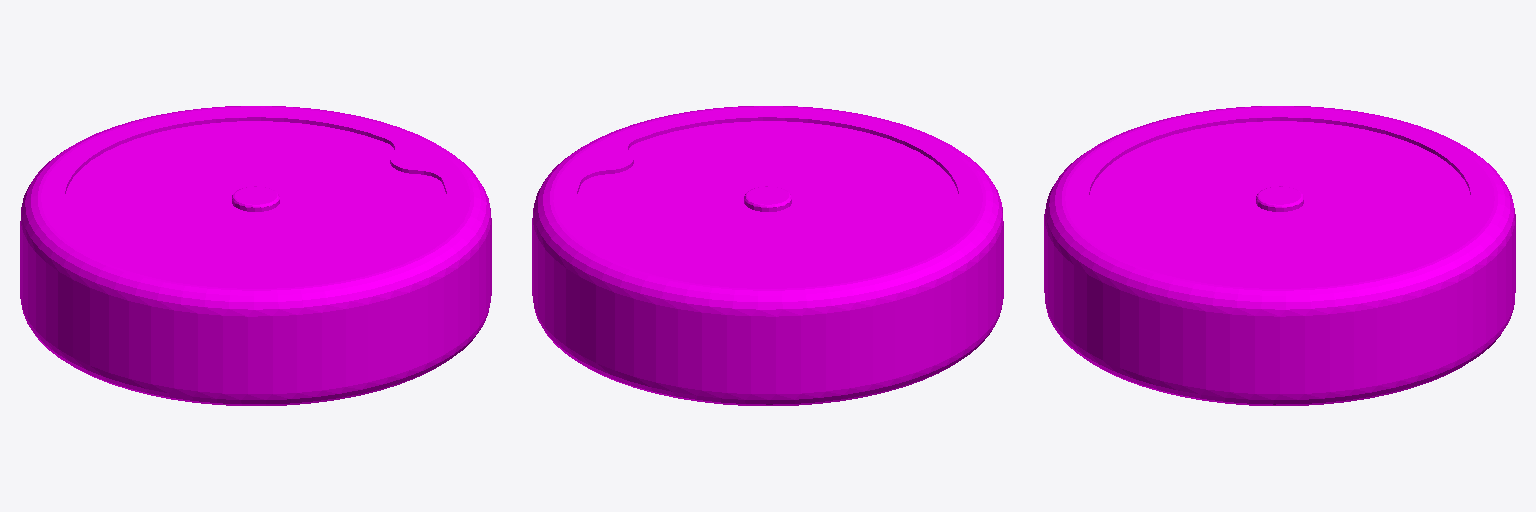
robot.urdf — roomba:
<robot name="roomba">
  <link name="base_link"/>

  <joint name="body_joint" type="fixed">
    <parent link="base_link"/>
    <child  link="body_link"/>
  </joint>
  <link name="body_link">
    <visual>
      <geometry>
        <mesh filename="package://roombot_driver/stl/Roomba_model.stl" />
      </geometry>
      <origin xyz="0 0 0" rpy="0 0 0"/>
        <material name="purple">
        <color rgba="1.0 0.0 1.0 2.0"/>
      </material>
    </visual>
  </link>
</robot>

--- Facts derived from the render (not from the file) ---
Views: 3 orthographic renders of the robot side by side, from view 1: azimuth 30°, elevation 25°; view 2: azimuth 150°, elevation 25°; view 3: azimuth 270°, elevation 25°.
Robot: roomba — 2 links, 1 joints (1 fixed); root link base_link; default pose: all joints at 0.
Links seen in each view (by area): view 1: body_link; view 2: body_link; view 3: body_link.
Boxes of the visible links, left/top/right/bottom form: body_link: left=20, top=106, right=491, bottom=405; body_link: left=532, top=106, right=1003, bottom=405; body_link: left=1044, top=106, right=1515, bottom=405.
Bounding box of the posed robot: 0.3398 × 0.3399 × 0.094 m (x, y, z).
Meshes: 1 distinct files referenced, 1 mesh visuals loaded (1 binary STL).